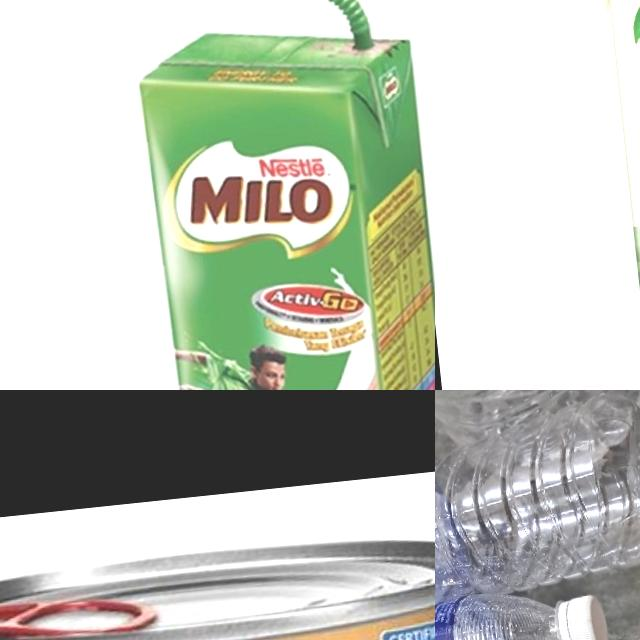aba de lata: (0, 585, 163, 640)
caixinha: (132, 7, 435, 390), (593, 0, 640, 390)
garrafa plástica: (435, 390, 640, 626), (435, 390, 640, 483), (435, 585, 572, 640)
lata: (0, 519, 435, 640)
tampa plástica: (556, 591, 616, 640)
